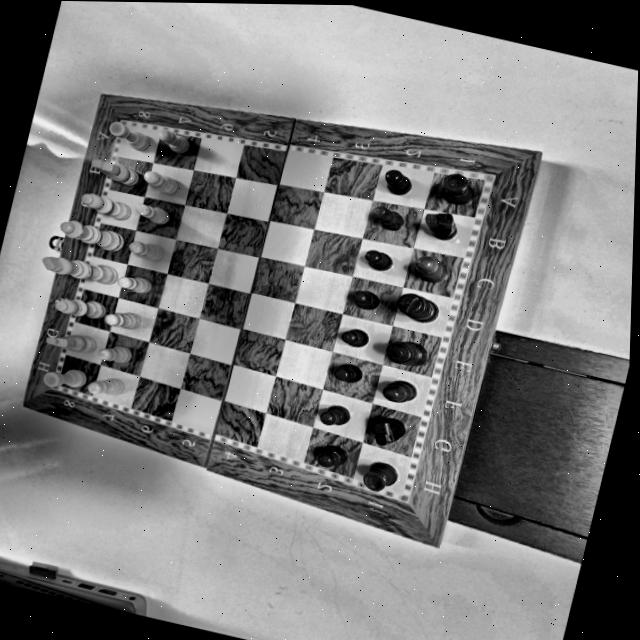black-bishop: (406, 252, 457, 287), (376, 373, 425, 409)
black-king: (388, 286, 448, 330)
black-knight: (363, 410, 416, 455), (418, 206, 461, 245)
black-pawn: (351, 242, 403, 280), (375, 163, 427, 201), (305, 436, 355, 475), (339, 279, 389, 316), (333, 320, 381, 354), (366, 199, 410, 236), (326, 353, 368, 391), (312, 401, 359, 431)
black-queen: (378, 335, 441, 373)
black-rook: (432, 165, 482, 210), (357, 458, 402, 496)
white-bishop: (75, 188, 136, 224), (48, 288, 107, 325)
white-king: (32, 246, 121, 291)
white-knight: (43, 325, 100, 359), (86, 156, 142, 189)
white-pawn: (138, 165, 191, 199), (124, 234, 173, 266), (84, 371, 128, 405), (101, 305, 147, 335), (95, 336, 136, 369), (130, 200, 174, 229), (154, 126, 195, 157), (113, 272, 160, 299)
white-queen: (50, 212, 132, 256)
white-rook: (101, 117, 160, 160), (38, 361, 90, 397)
